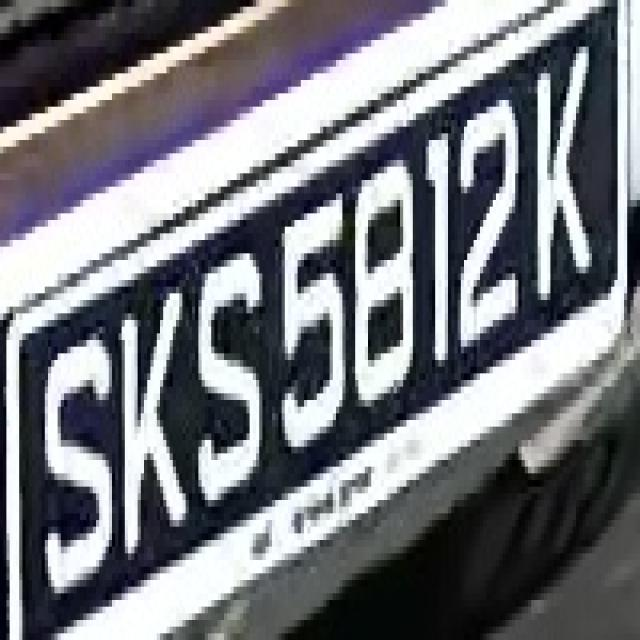1: (419, 107, 461, 393)
2: (448, 74, 528, 354)
5: (272, 194, 352, 454)
8: (346, 153, 419, 427)
K: (112, 293, 195, 560), (522, 33, 602, 307)
S: (189, 260, 288, 507), (35, 327, 122, 593)
